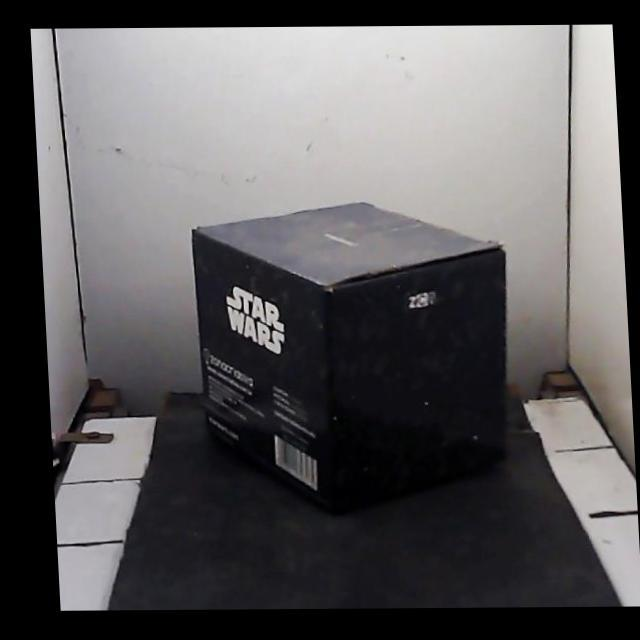papel: (192, 203, 506, 510)
